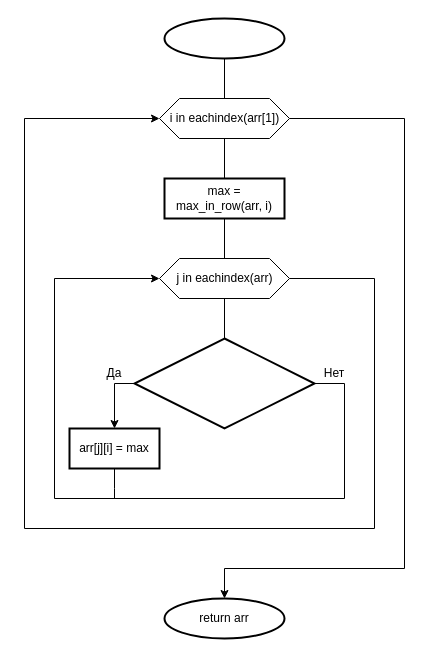
This 430x656 diagram has some shape labels left out. The centre of each missing label's shape, as x and y in pixels:
"d_element_to_max" goes at pixel 224 38.
"i == j || ((i + j - 1) == size(arr)[1])" goes at pixel 224 383.
